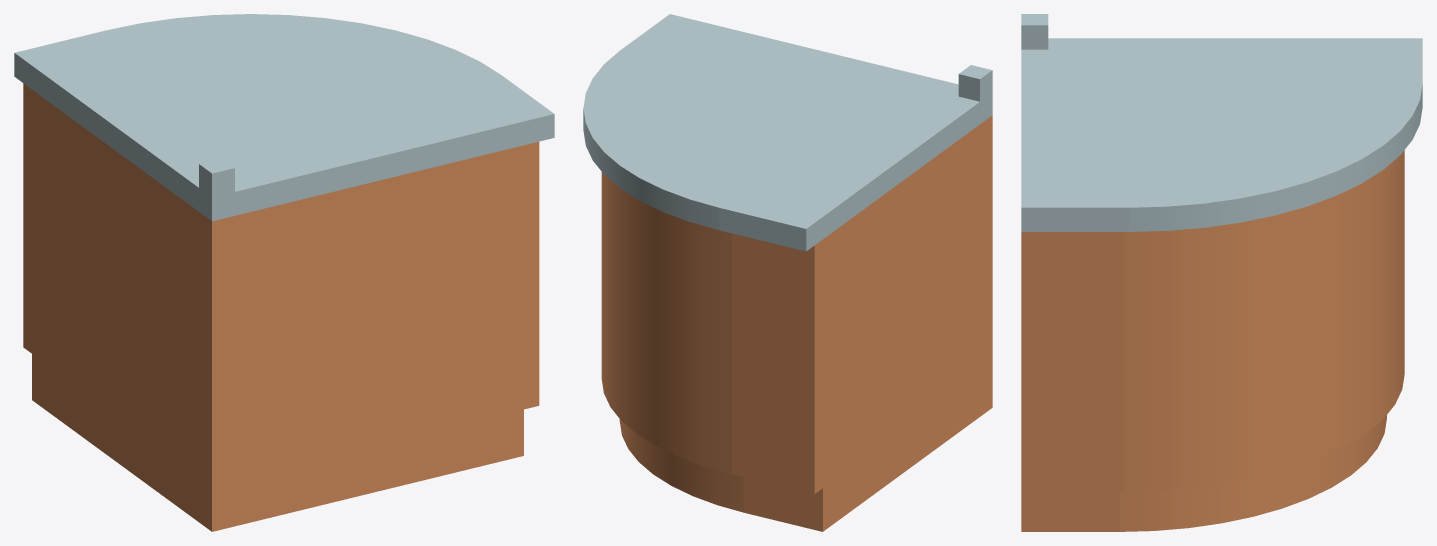
The model's file is kitchen_cabinet_corner_round.obj.
The picture shows the model from 3 angles, left to right: view 1: azimuth 30°, elevation 25°; view 2: azimuth 150°, elevation 25°; view 3: azimuth 270°, elevation 25°; orthographic projection. The views are drawn at different scales.
Visible parts, largest first — view 1: kitchenCabinetCornerRound:kitchenCabinetCornerRound; view 2: kitchenCabinetCornerRound:kitchenCabinetCornerRound; view 3: kitchenCabinetCornerRound:kitchenCabinetCornerRound.
Boxes of the visible parts, box(x1,y1,x2,y2) form: kitchenCabinetCornerRound:kitchenCabinetCornerRound: box(14, 14, 554, 531); kitchenCabinetCornerRound:kitchenCabinetCornerRound: box(583, 14, 992, 531); kitchenCabinetCornerRound:kitchenCabinetCornerRound: box(1021, 14, 1422, 531).
Bounding box in the file's own units: 0.45 × 0.45 × 0.45.
